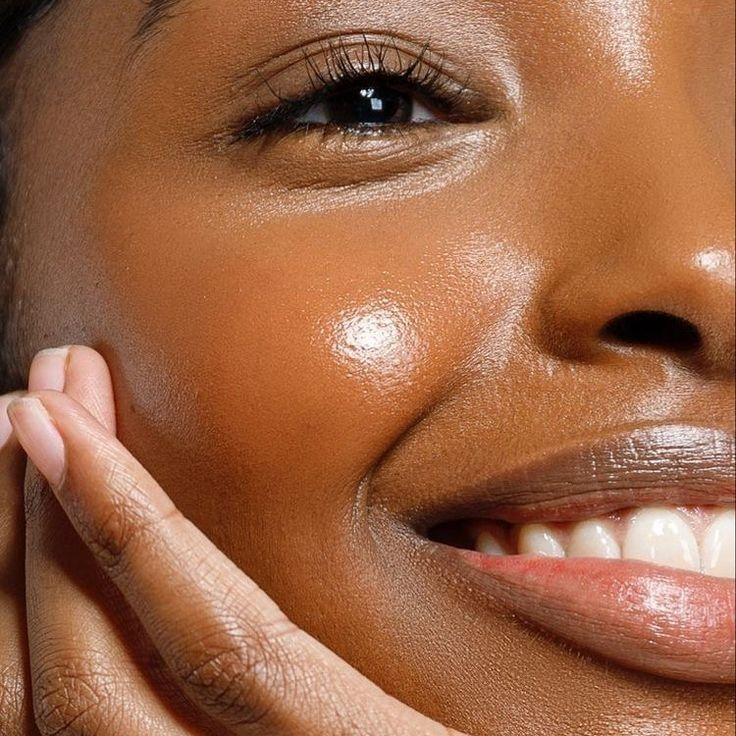Oily-Skin: (321, 288, 447, 396), (481, 246, 560, 353), (588, 0, 664, 96), (683, 206, 736, 293)
